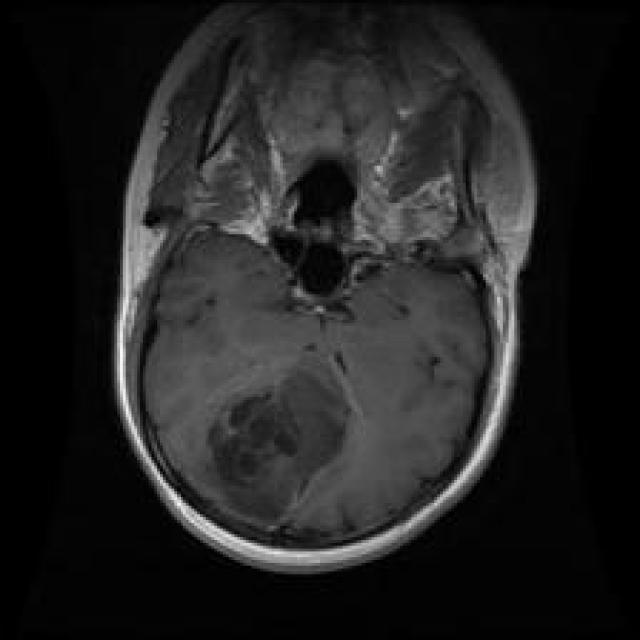glioma_tumor: (190, 333, 357, 541)
